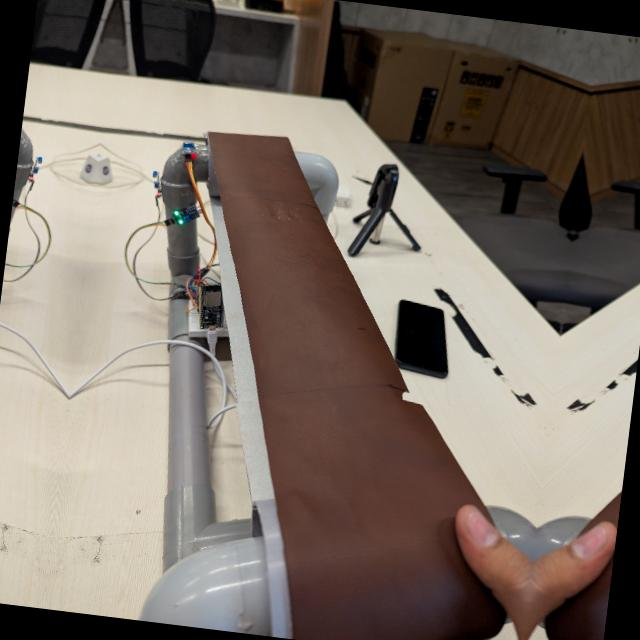belt_tear: (397, 381, 423, 407)
